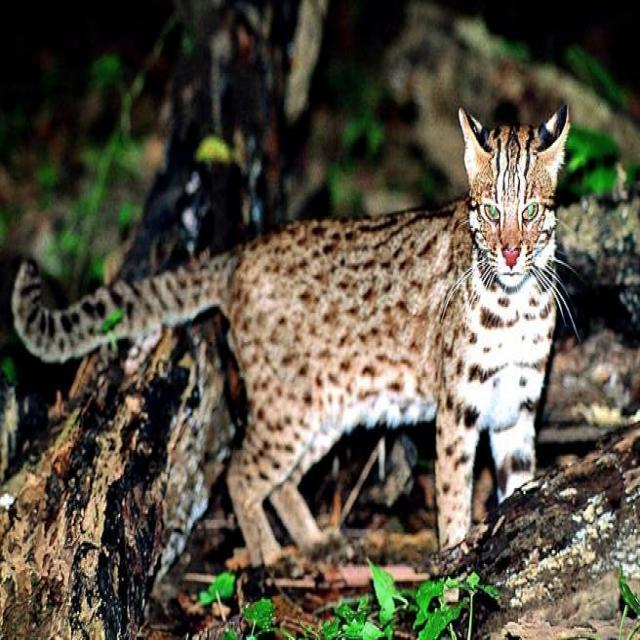leopard: (24, 226, 633, 598)
